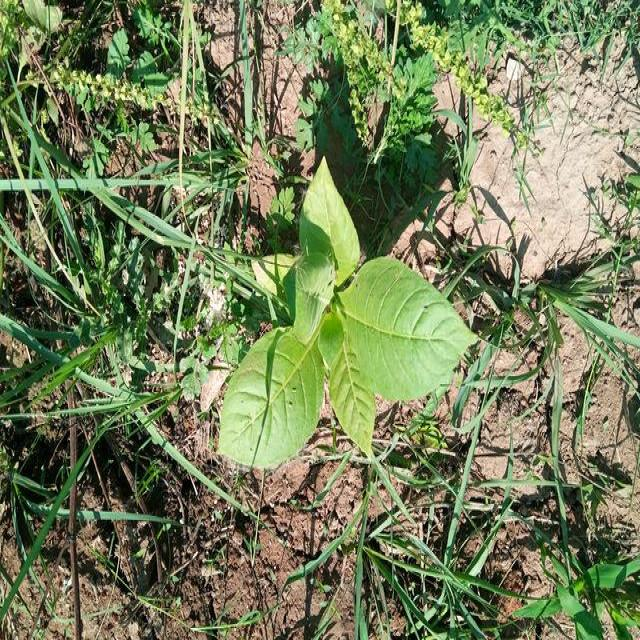crop: (210, 160, 478, 480)
